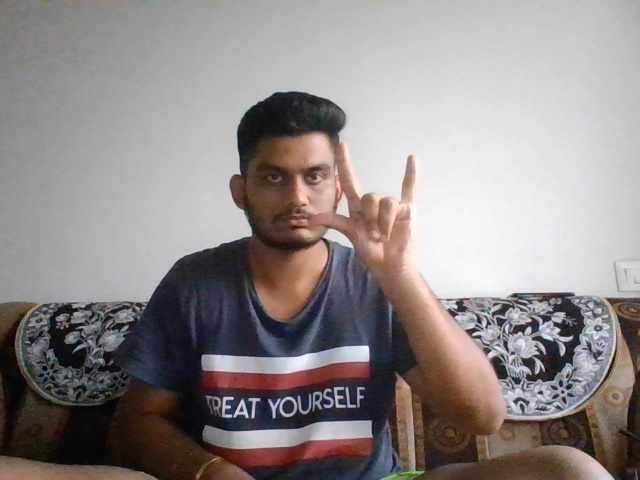I Love You: (308, 142, 428, 272)
